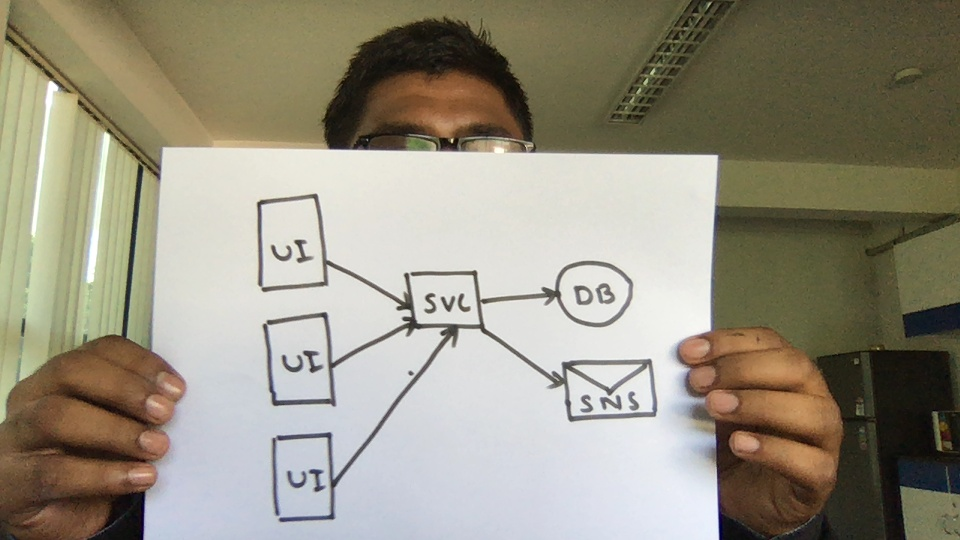db: (552, 256, 635, 329)
ec2: (400, 265, 490, 344)
sns: (558, 352, 666, 427)
ui: (251, 193, 333, 293), (259, 308, 341, 408), (259, 427, 341, 527)
